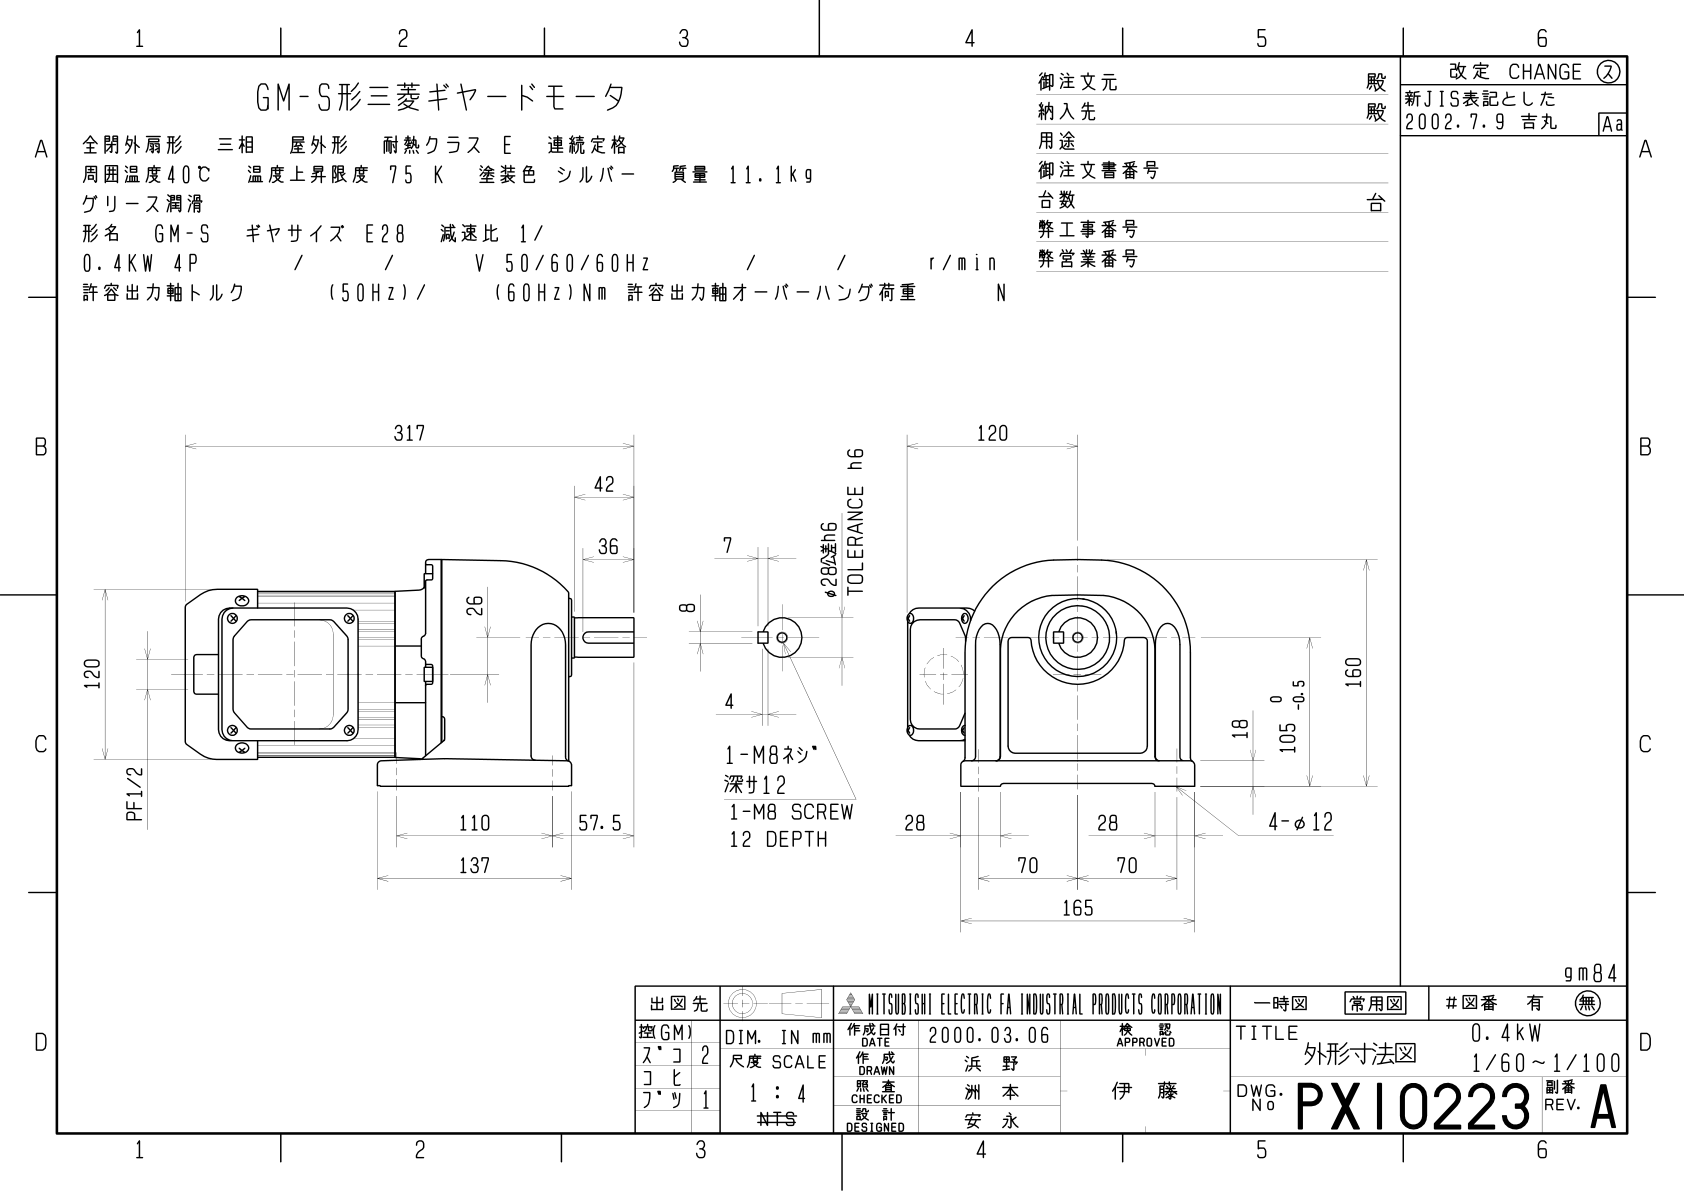GM_S_屋外＿三相_脚: (67, 385, 1392, 953)
